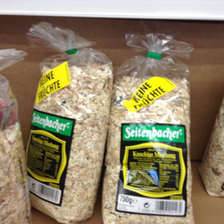cereal: (101, 53, 196, 223), (24, 44, 113, 222)
